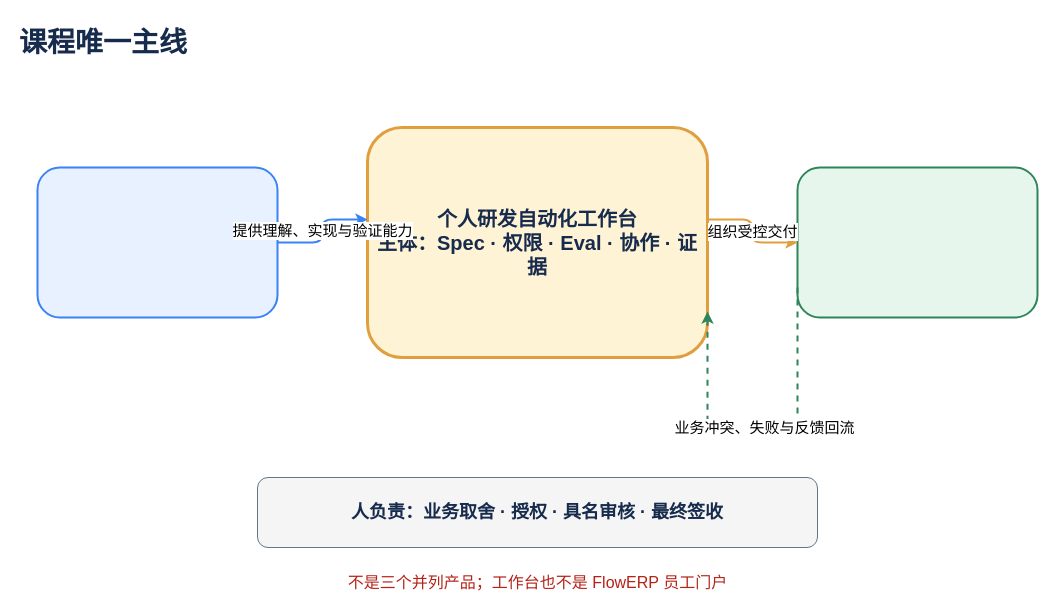
The diagram is 1055 pixels wide and 614 high, and some of its shapes have lost their labels. Here are the shapes that lost their labels. From the top down, the centre of each, then its label:
the point at 157,242: Codex AI 开发伙伴
the point at 917,242: FlowERP 客户产品与验证场
